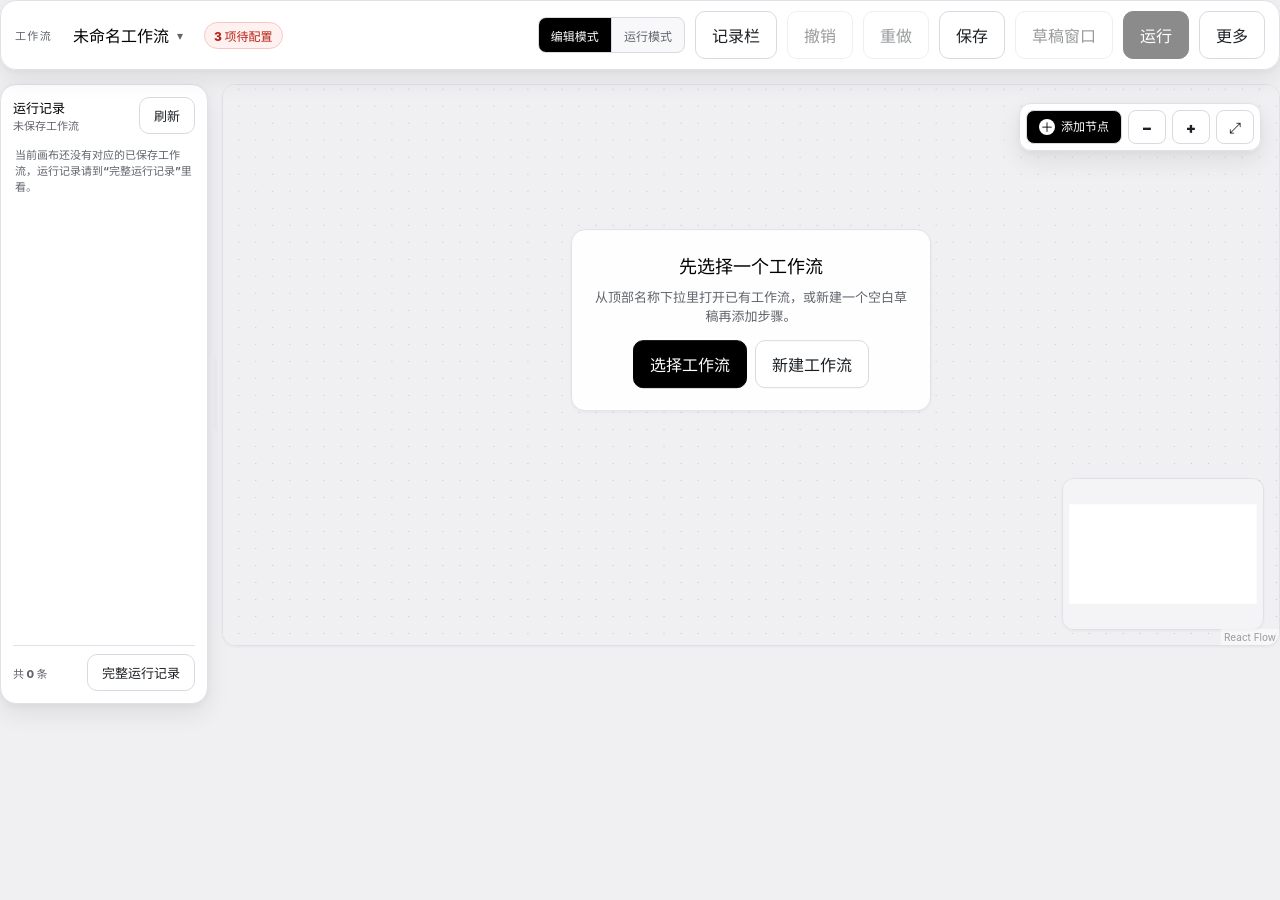
Test: WorkflowEditor 保存弹窗 › 保存成功后即使目录刷新失败也会关闭弹窗
Click the button with class "workflowNameTrigger". click: (128, 35)
box: [62,16,194,54]
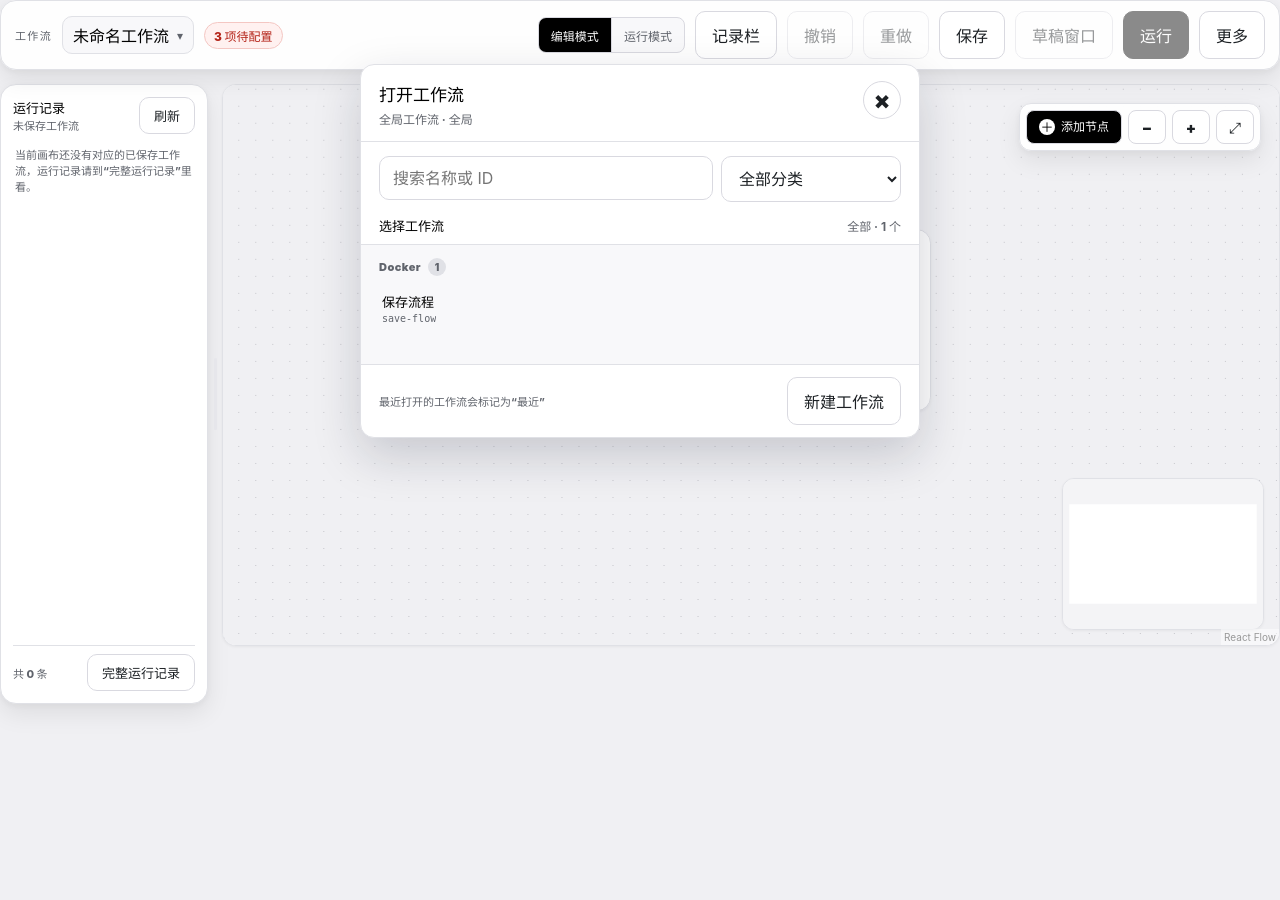
Click the option with class "workflowLoaderItem". click: (408, 302)
box: [371,282,909,334]
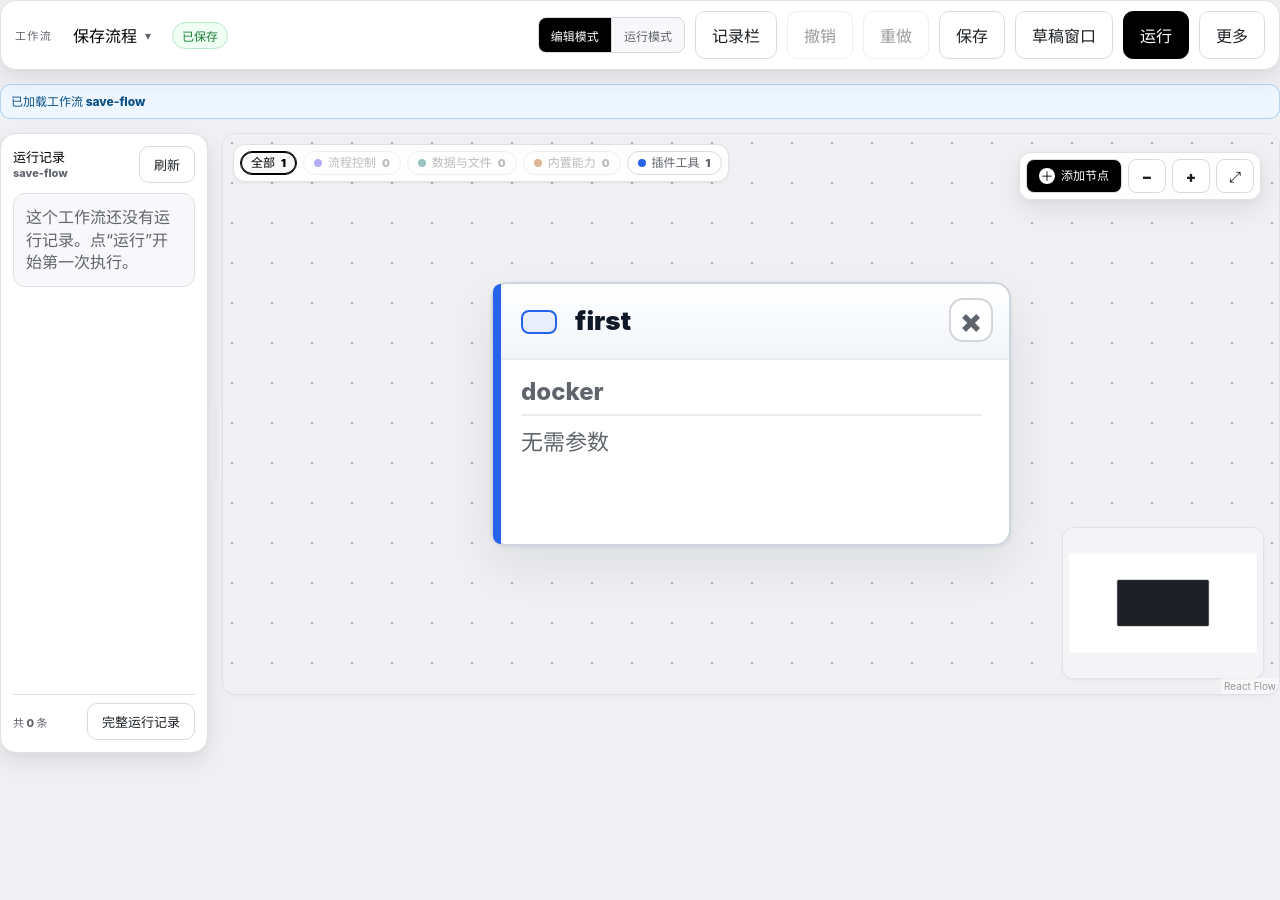
Click the button "保存". click: (972, 35)
box: [939,11,1005,59]
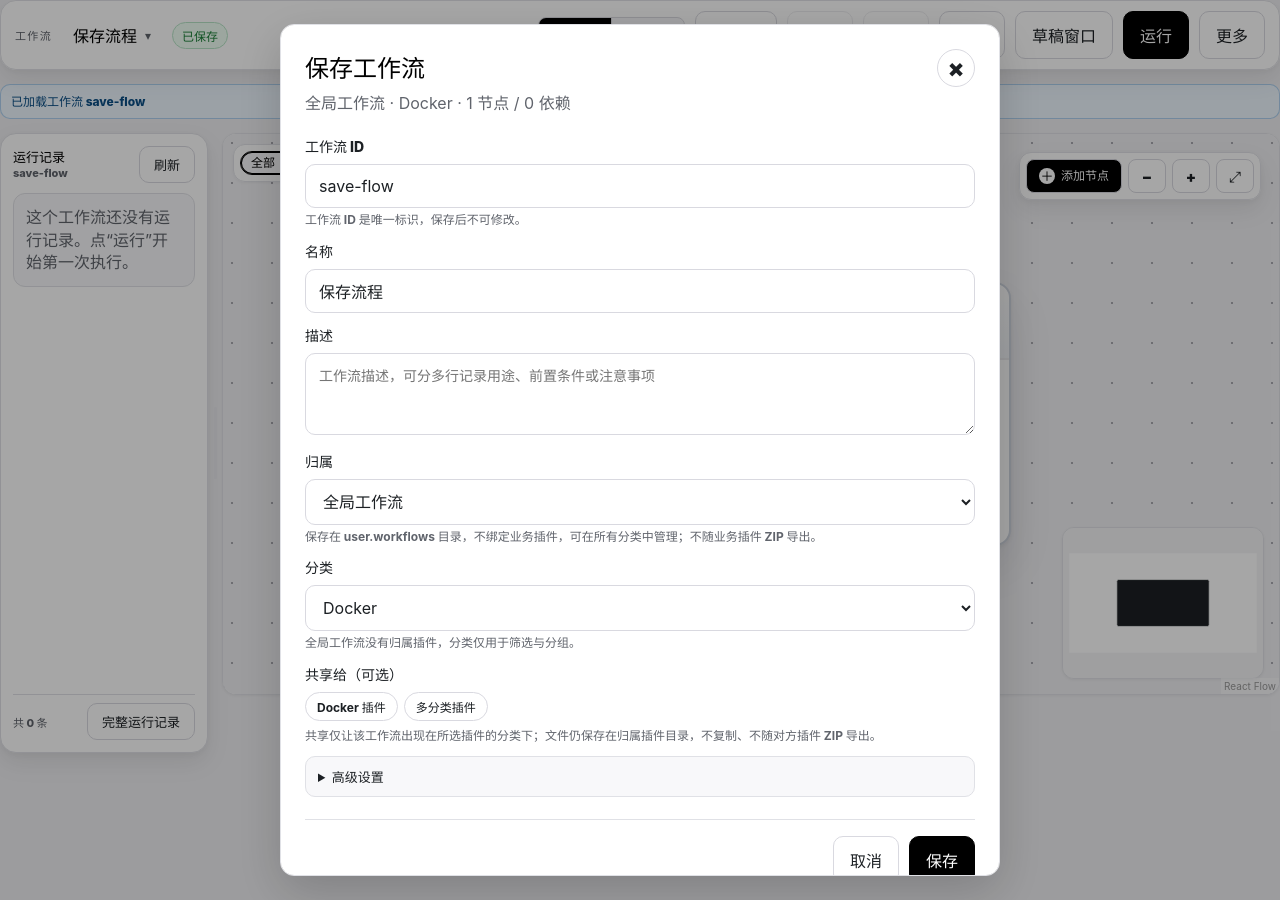
Click the button "保存". click: (942, 860)
box: [909,836,975,884]
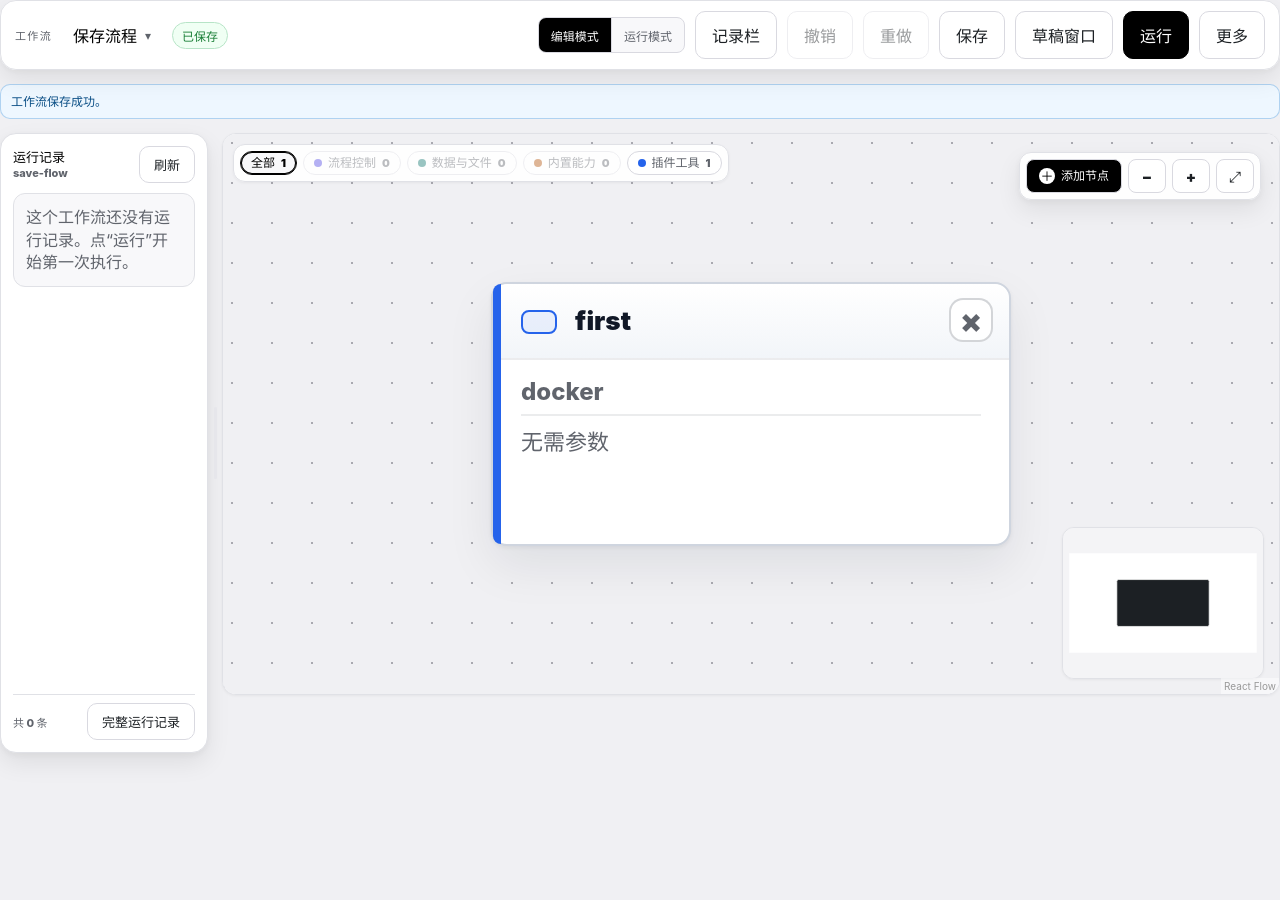
Expected: the dialog named "保存工作流" is gone
